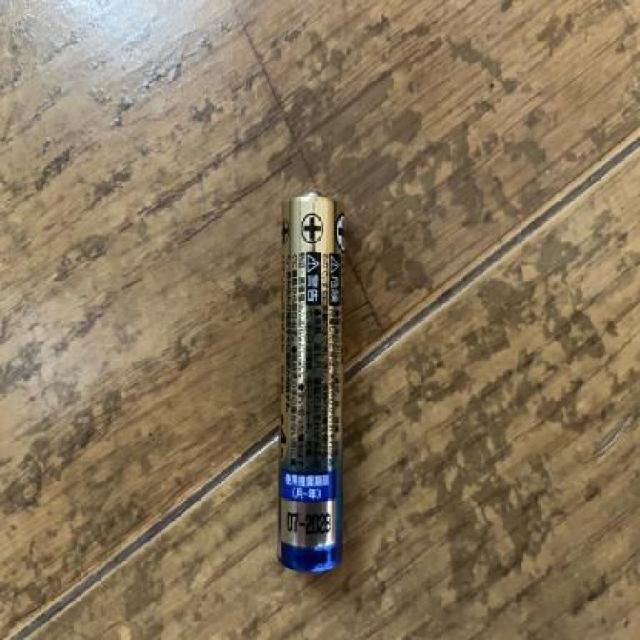hazardous waste: (274, 187, 344, 576)
